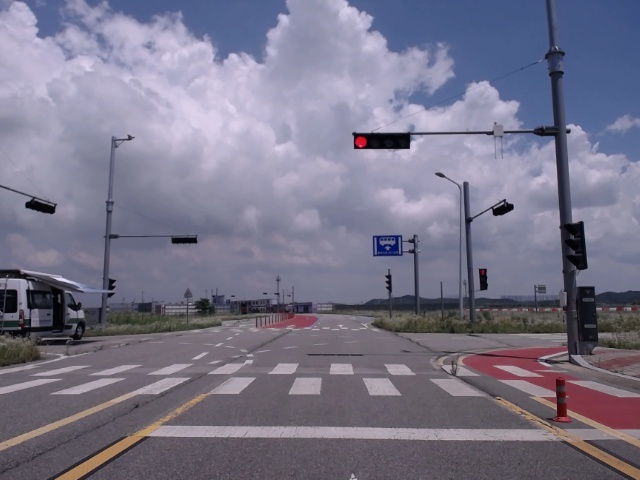red_4: (354, 135, 410, 148)
